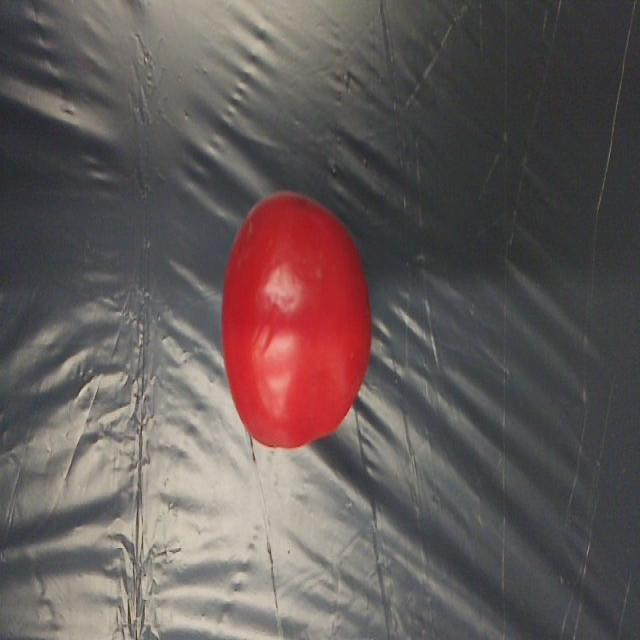kirmizi: (217, 183, 384, 461)
